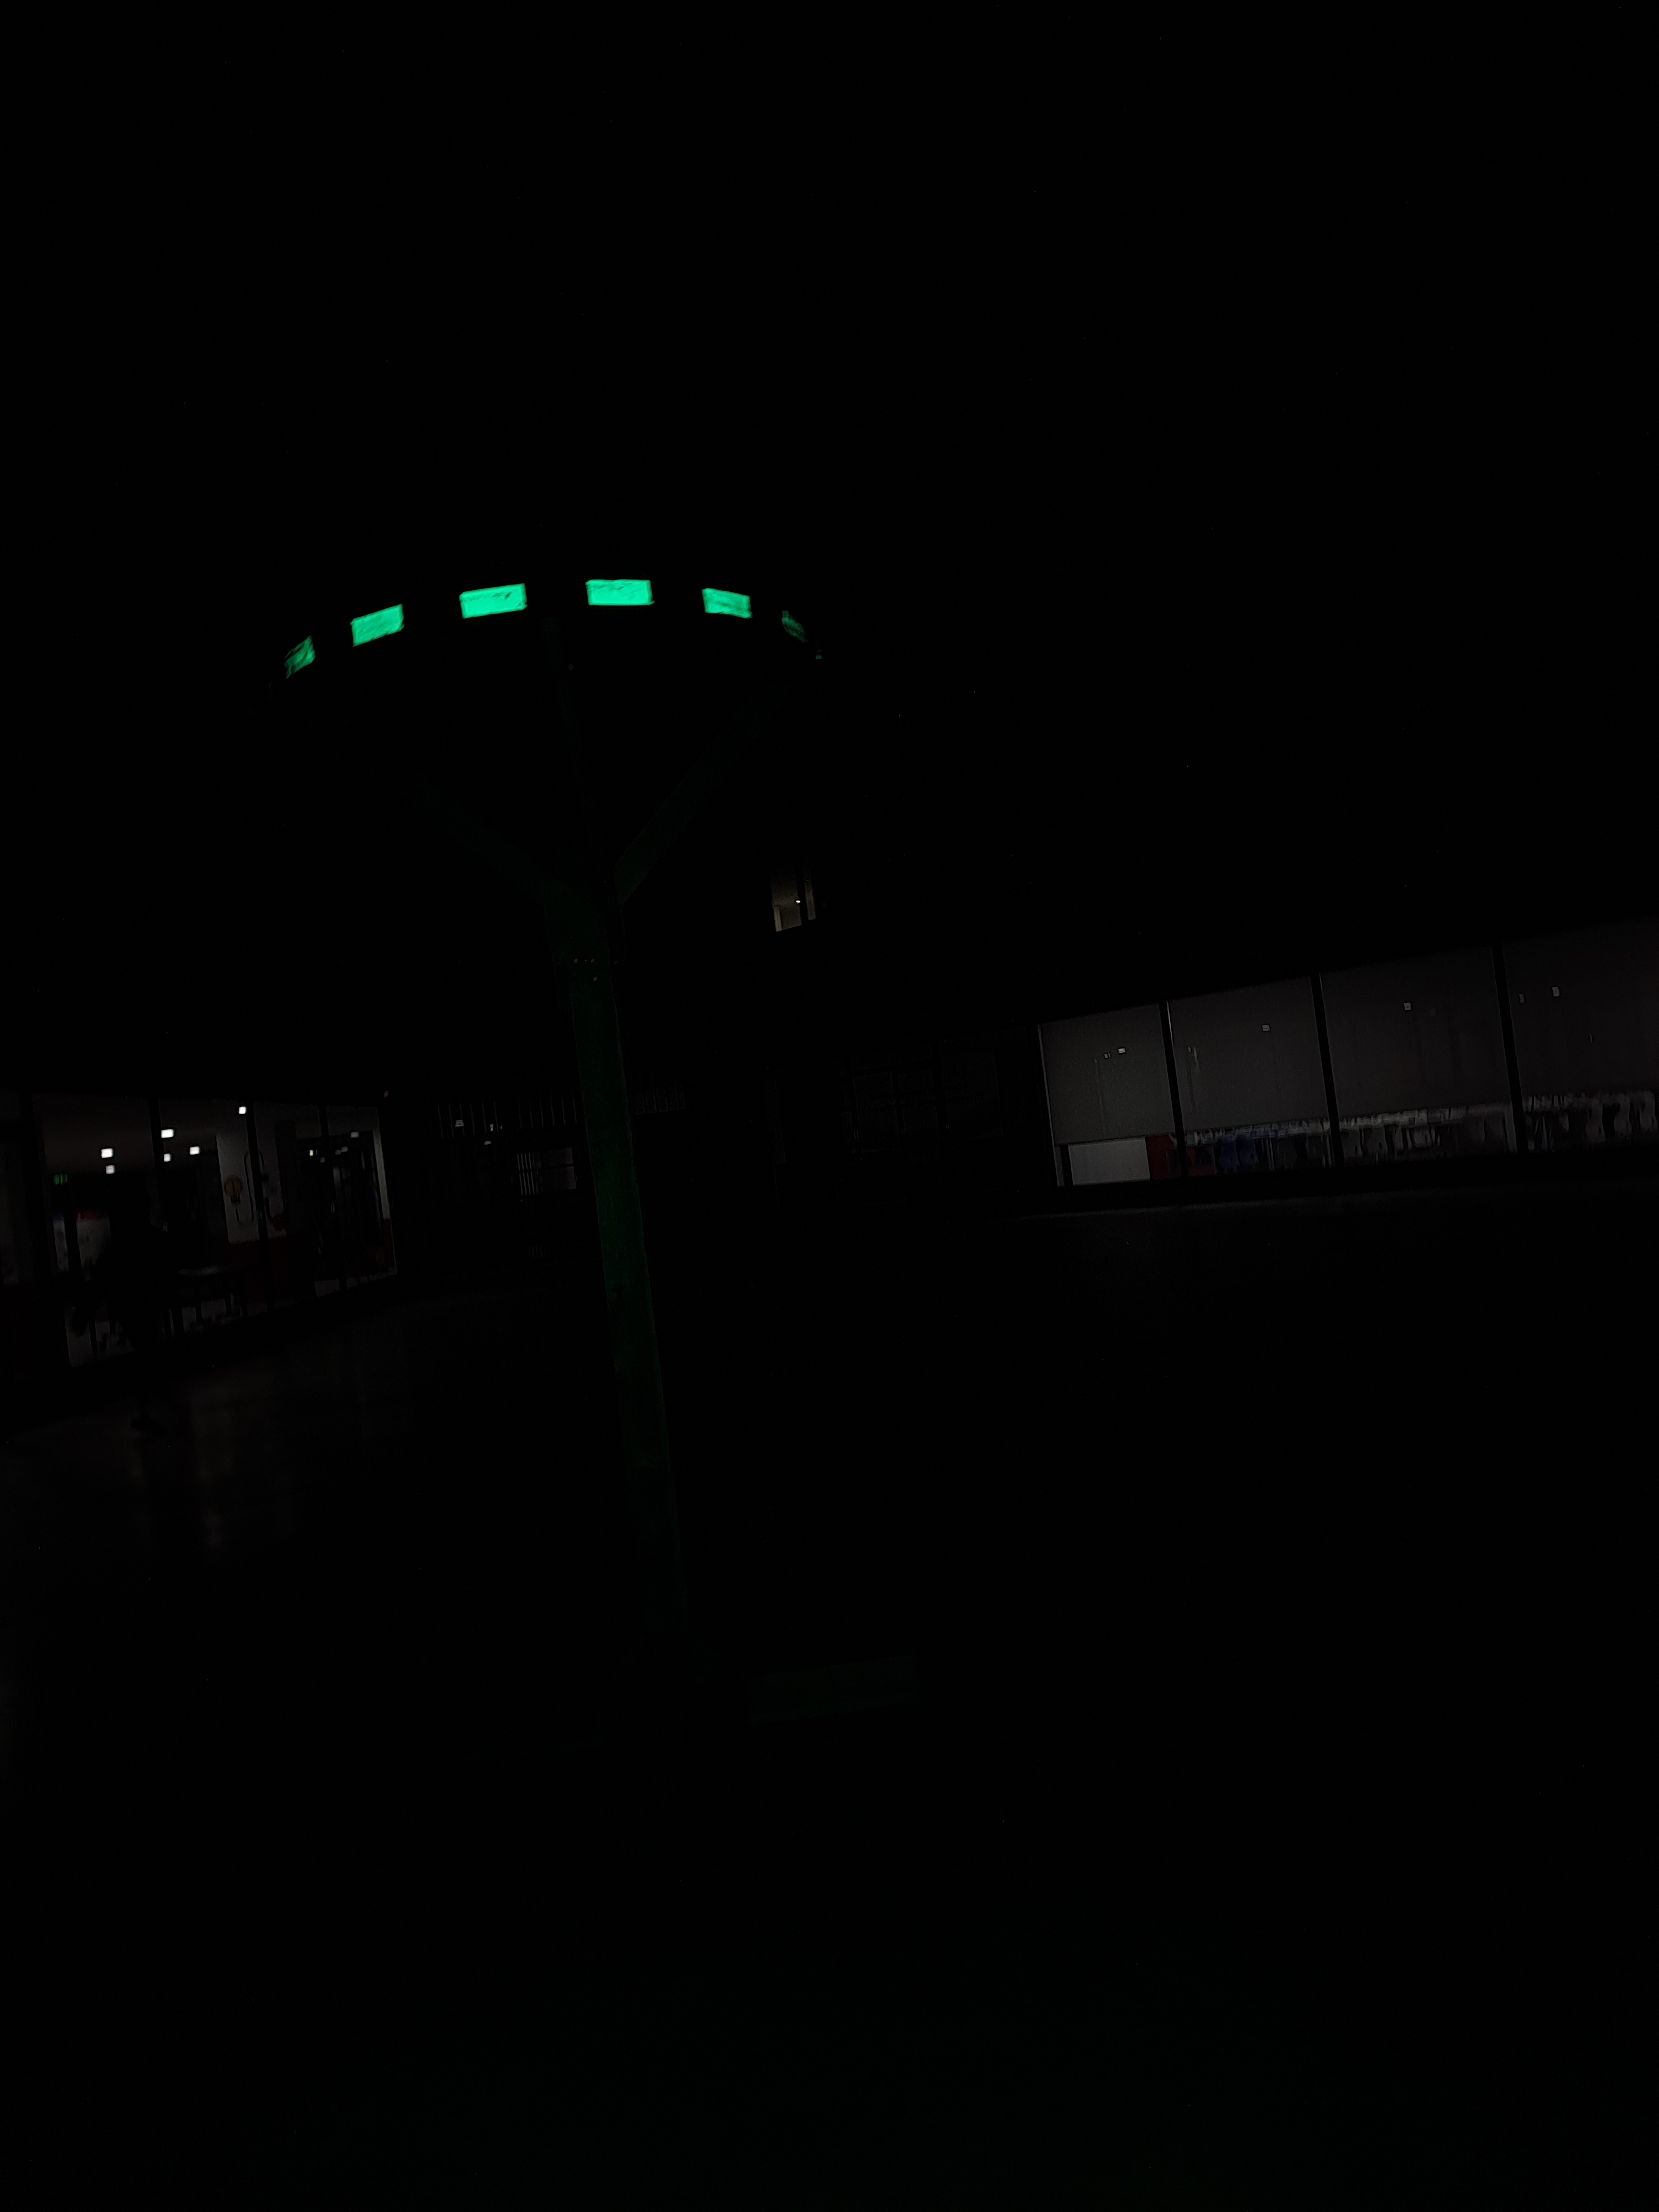hoop: (270, 568, 758, 678)
